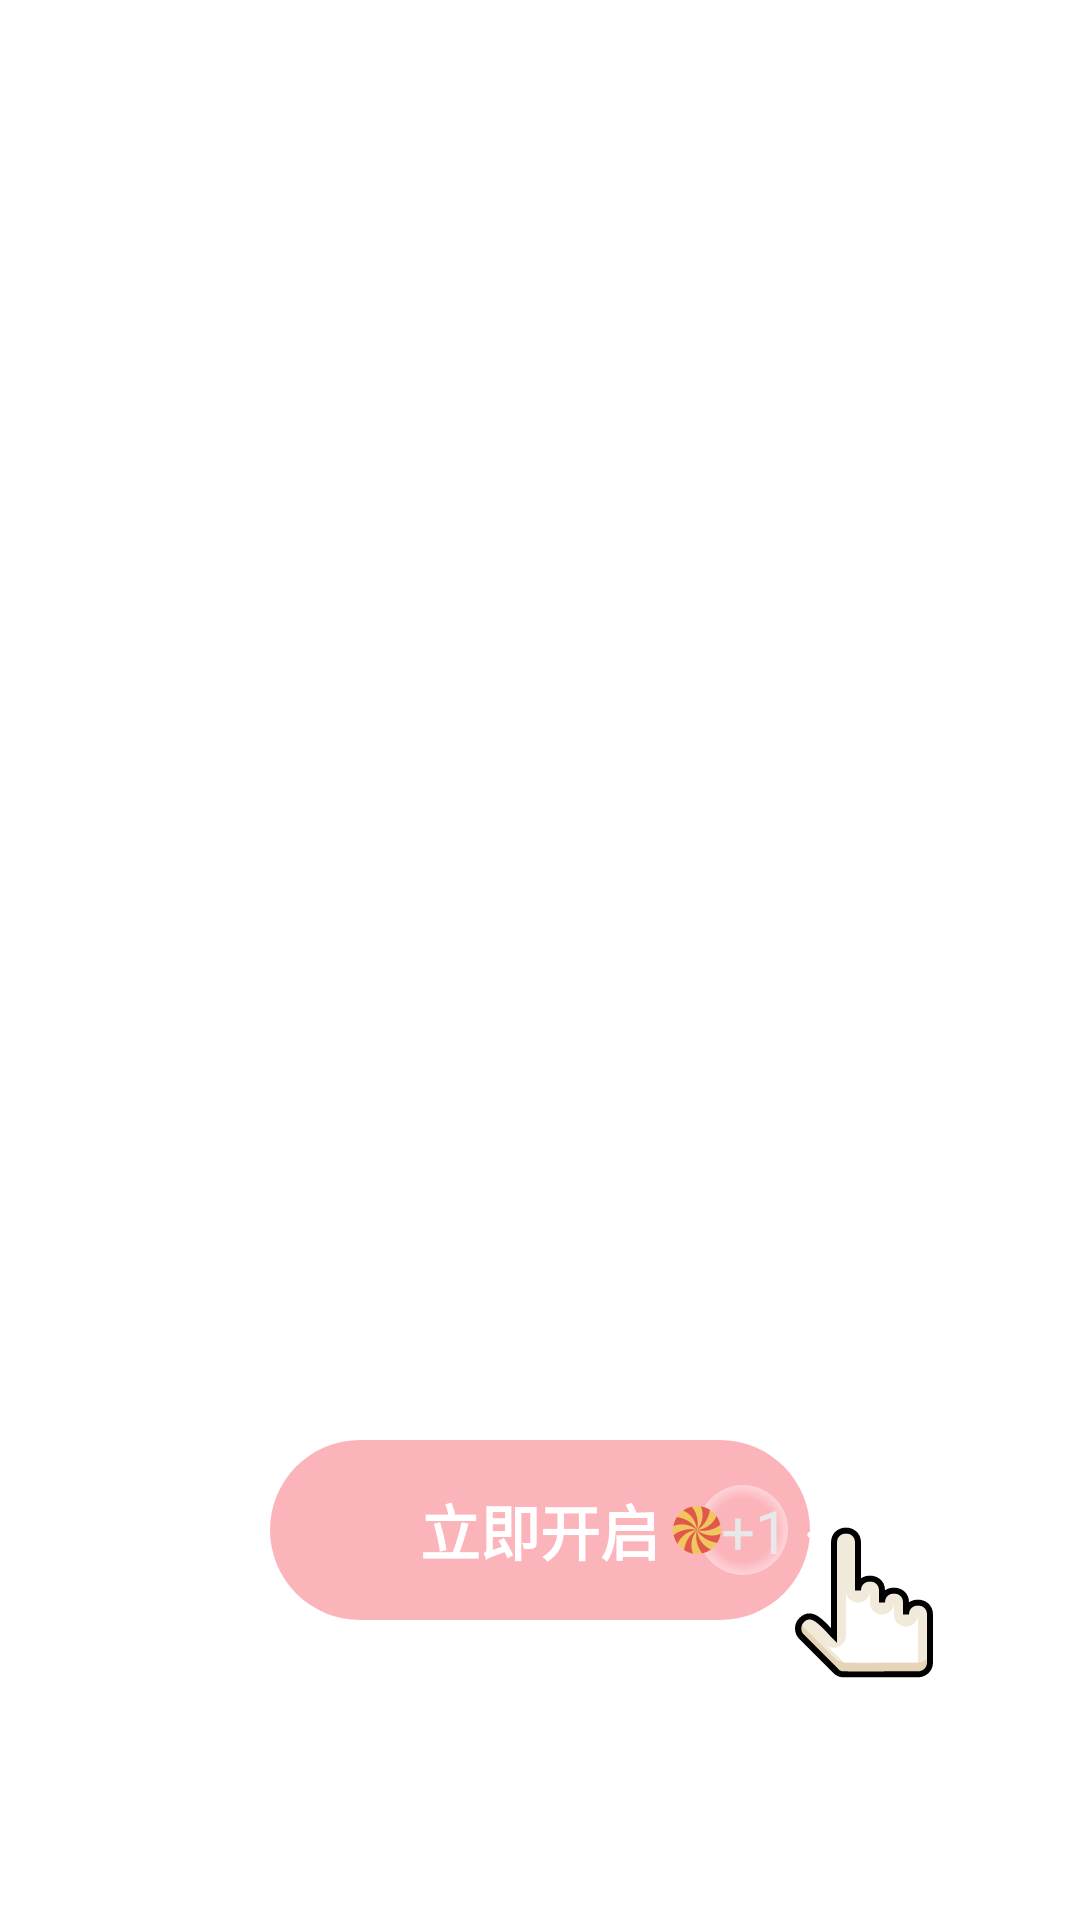

Screen size 1080*1920. Icon name, then its center in pixels as point (x, y):
hand click: point (864, 1602)
